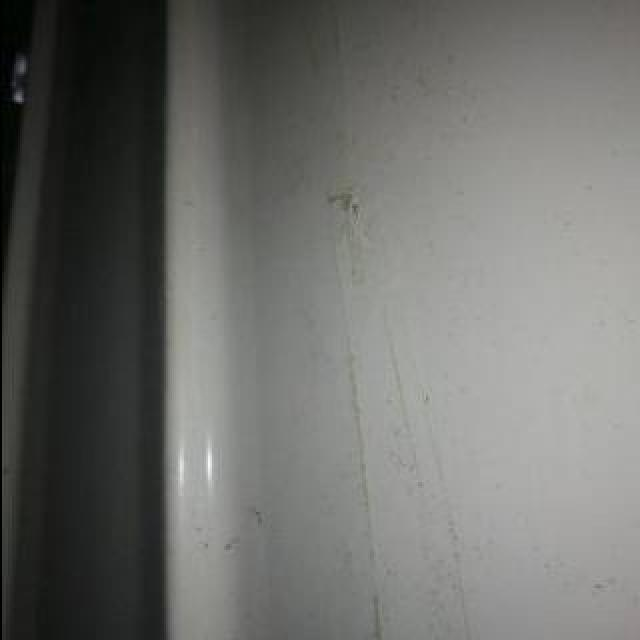crack: (383, 253, 475, 640), (335, 257, 385, 640), (369, 266, 427, 520), (322, 183, 384, 239)
